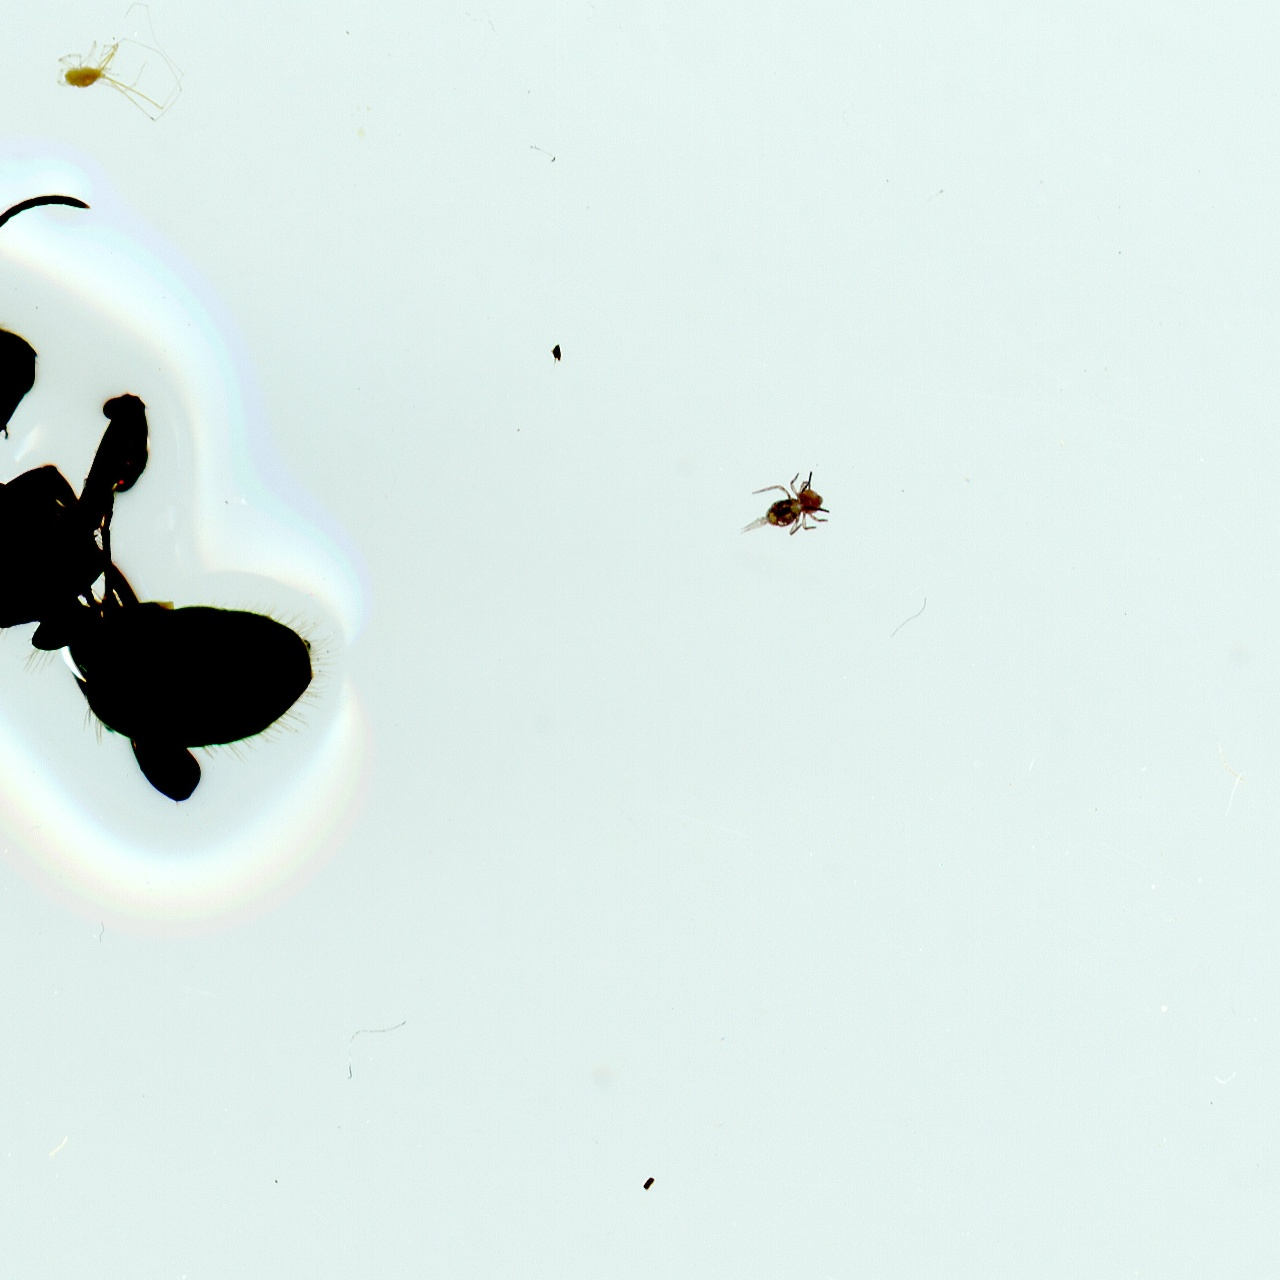arthropod: (0, 143, 399, 921), (50, 0, 191, 128), (719, 451, 847, 571)
